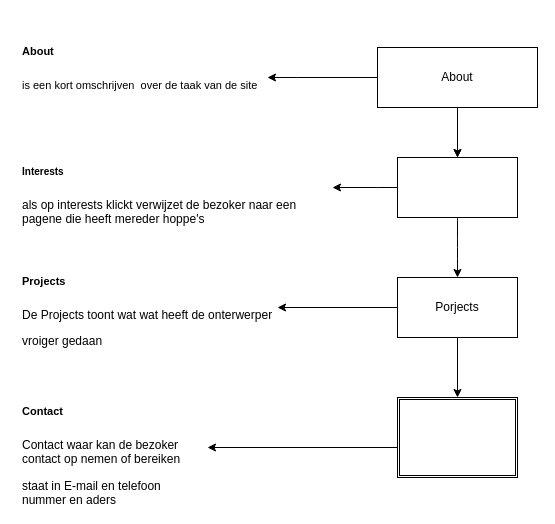
This 555x524 diagram has some shape labels left out. The shapes that lost their labels are listed below. From the top down, each one's centre as x and y in pixels, then its label:
[457,187]: interests
[457,437]: contact
